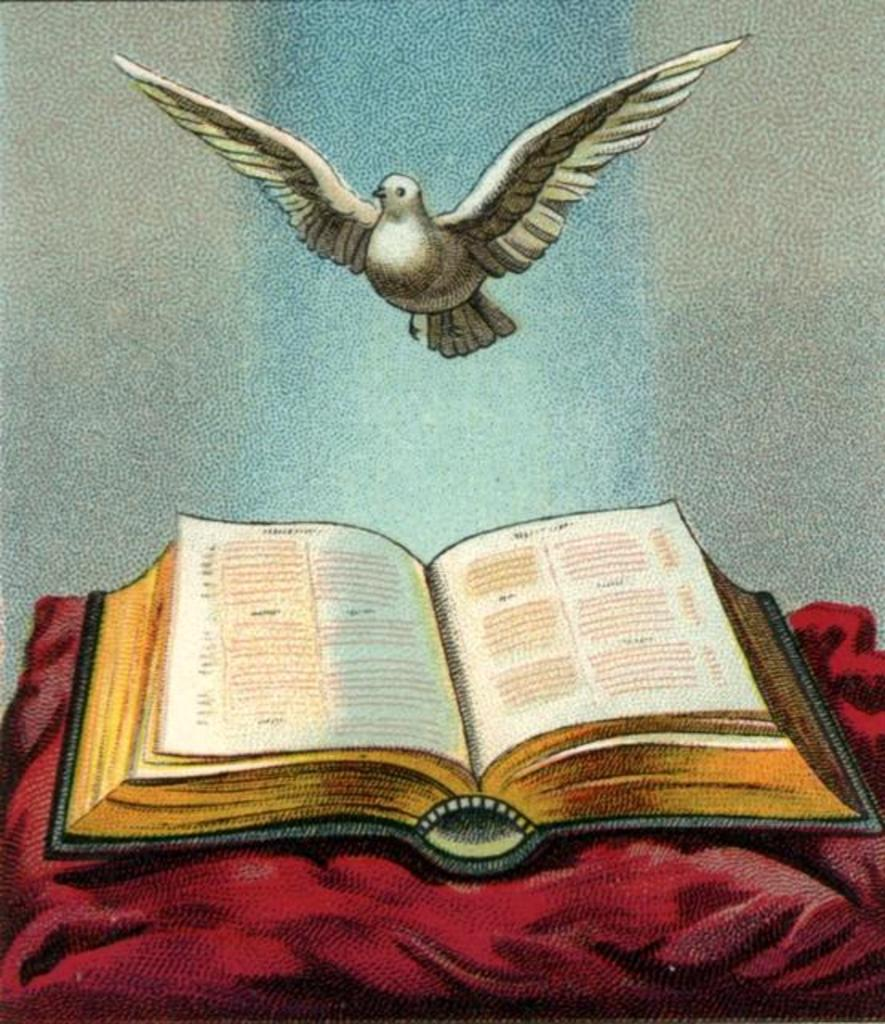Book: (0, 478, 861, 910)
